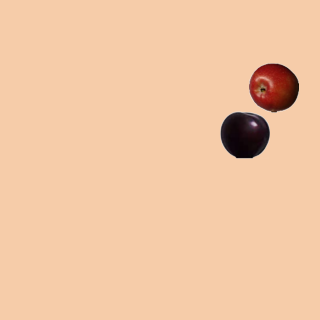Apple Braeburn: (248, 62, 298, 112)
Cherry Wax Black: (219, 109, 269, 159)
